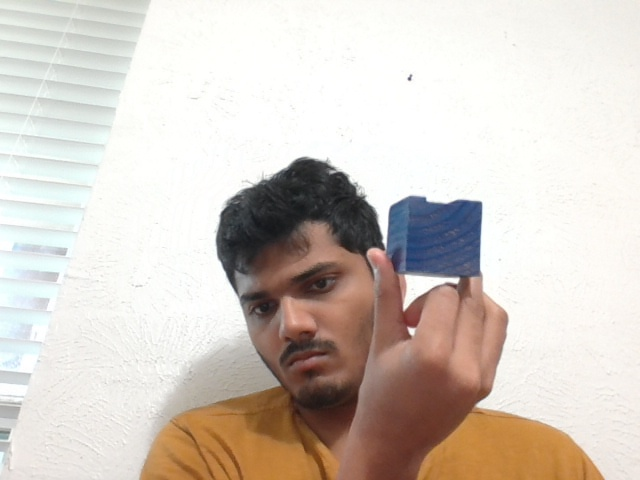BlueBlock: (387, 195, 482, 279)
